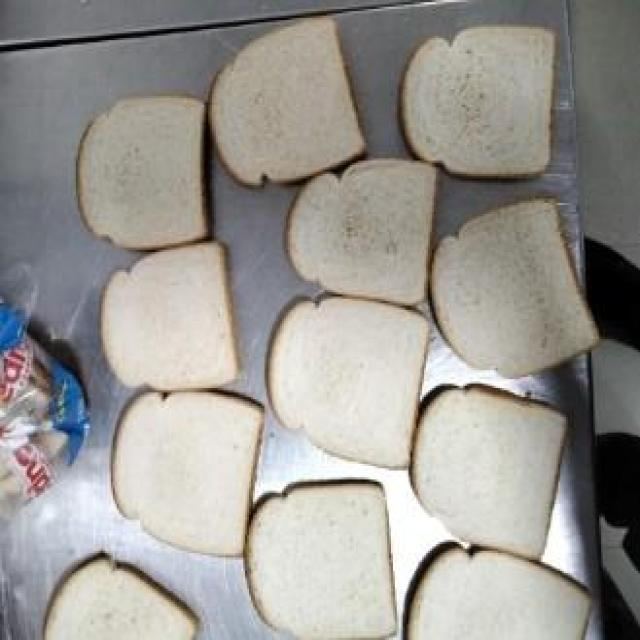pan: (429, 193, 602, 378), (264, 295, 432, 470), (410, 385, 572, 563), (211, 17, 367, 188), (112, 390, 265, 557), (245, 478, 398, 638), (401, 26, 556, 178), (286, 159, 438, 306), (100, 243, 242, 391), (78, 94, 210, 249), (402, 540, 593, 638)
